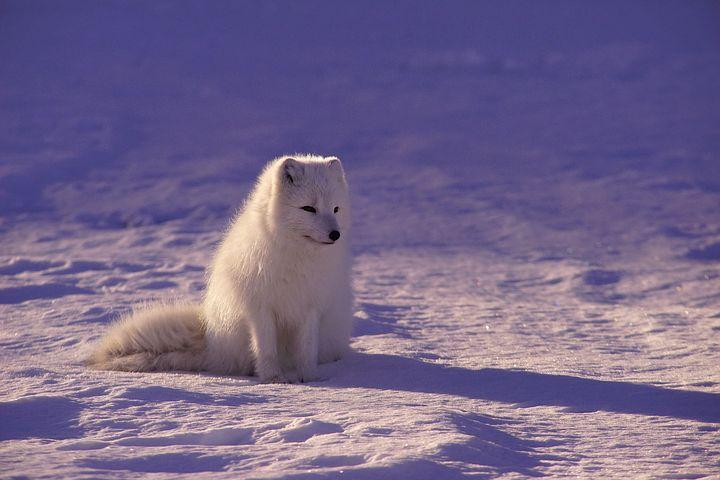fox: (92, 150, 352, 384)
